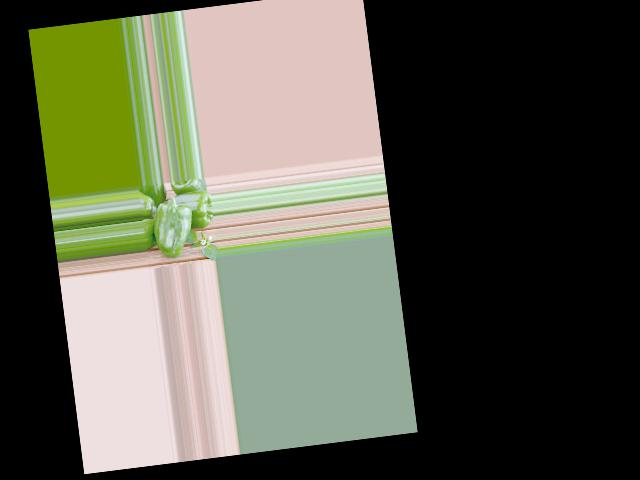bell_pepper: (137, 187, 158, 215)
